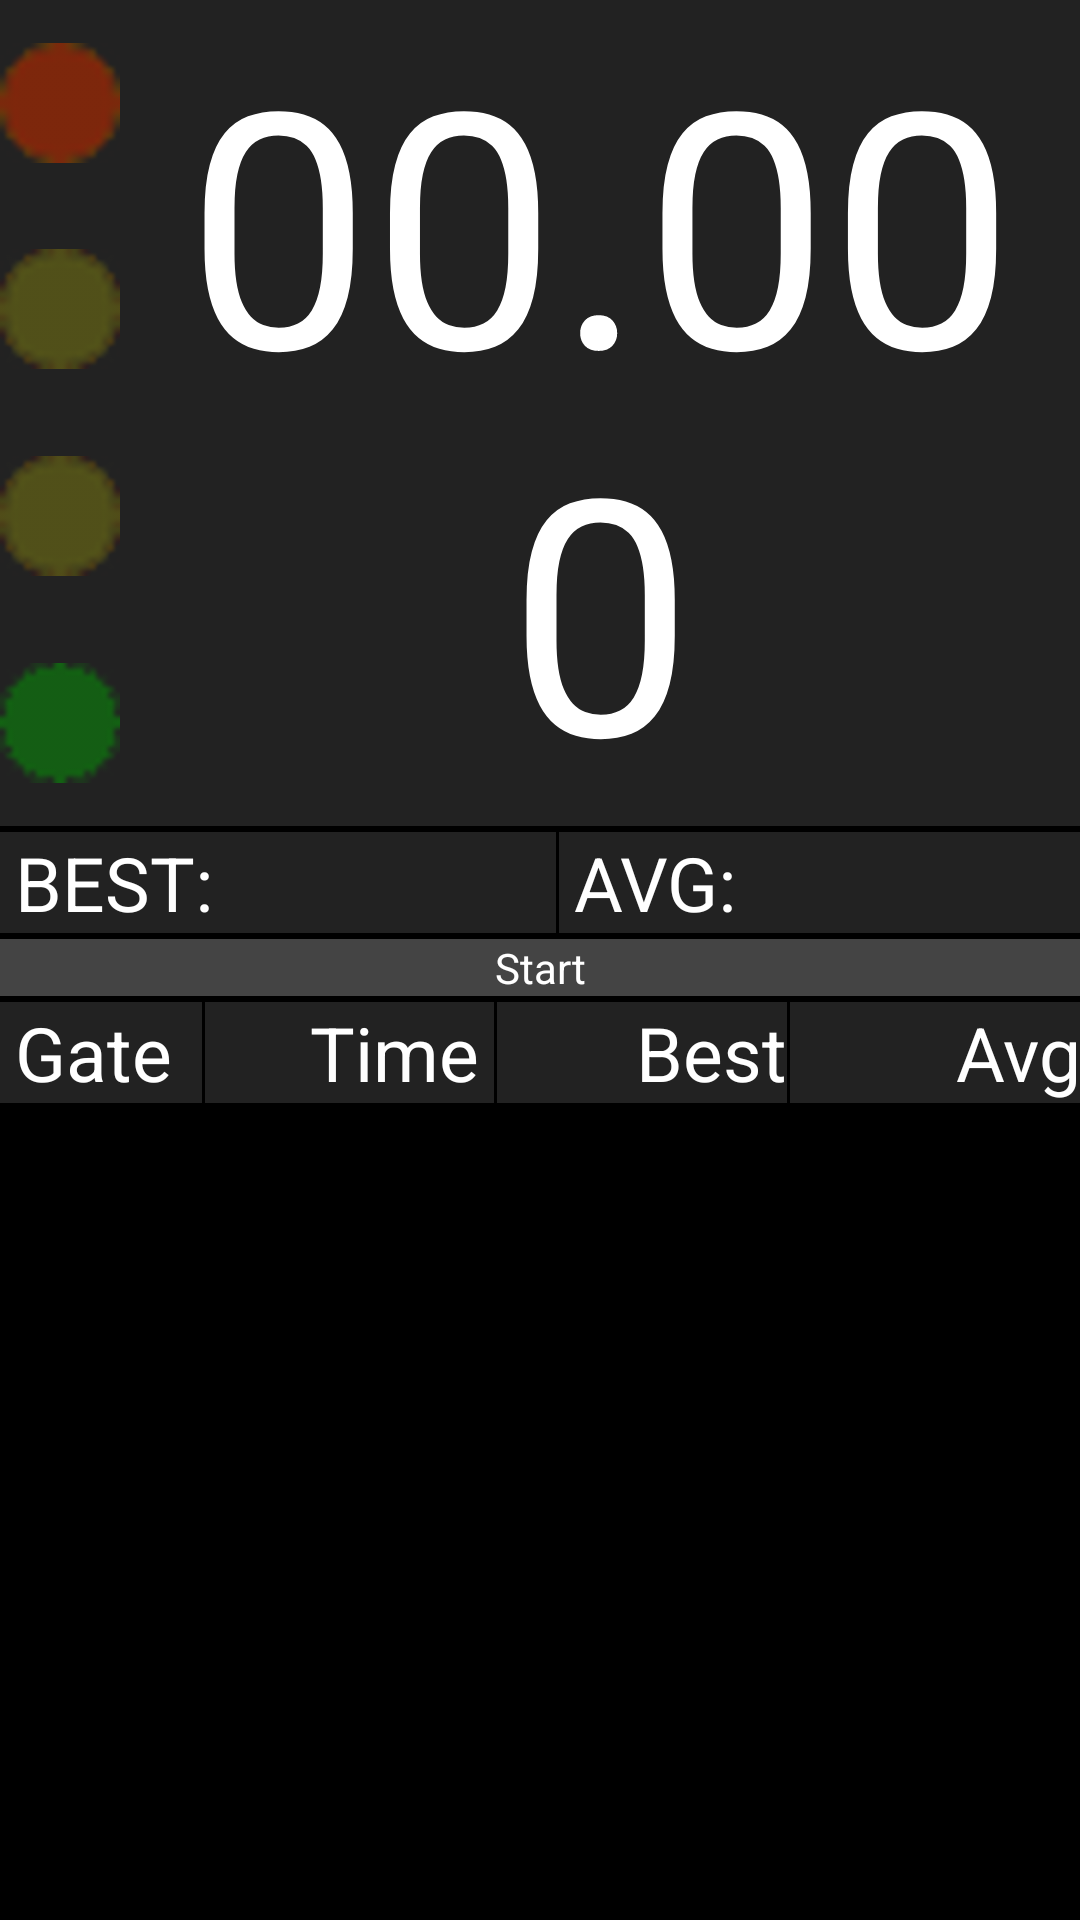

Point at icon controls on the screen. Image size 1080px×1920px, points as point (x, y).
led: point (60, 103), point (60, 309), point (60, 516), point (60, 723)
